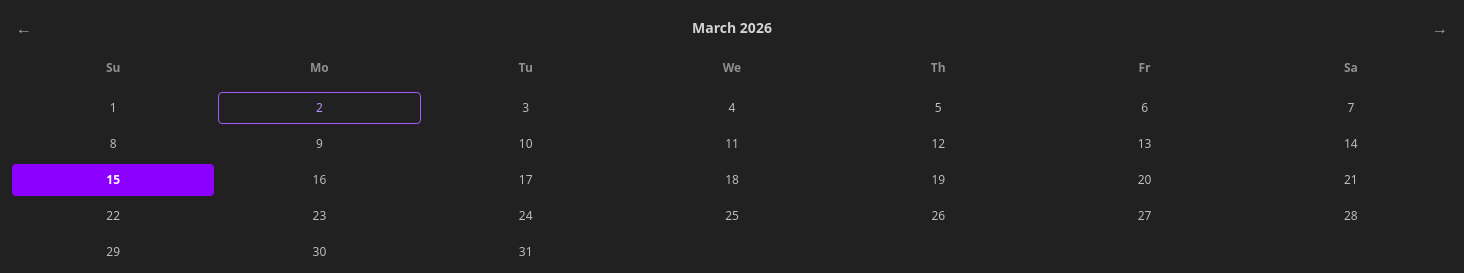
Test: Calendar › navigates to next month when right arrow is clicked
This screenshot has width=1464, height=273.
Click the button named "Next month" at (1440, 28), box [1428,12,1452,44]
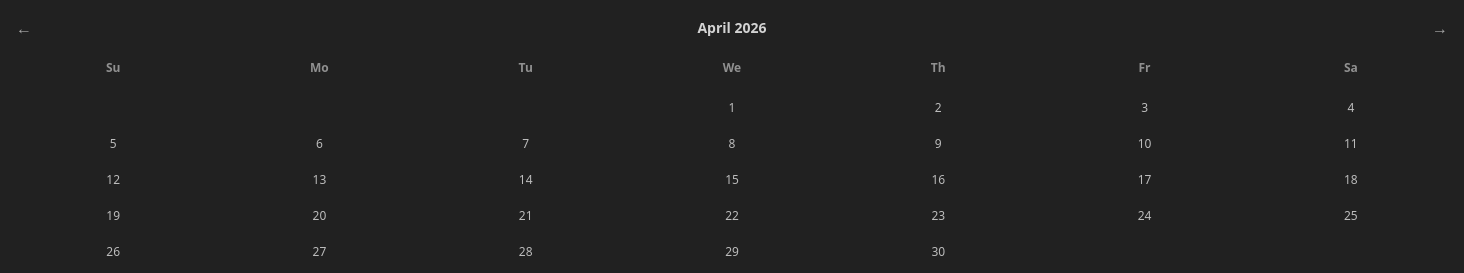
expect the text "April 2026" is shown: met, box [697,18,766,38]
